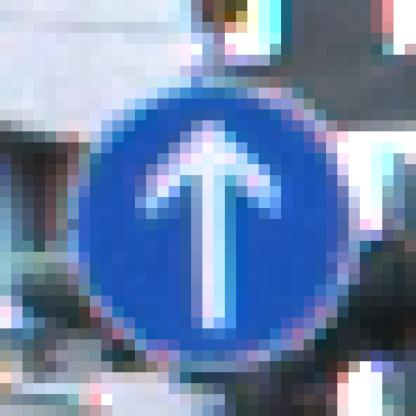AheadOnly: (68, 67, 361, 362)
